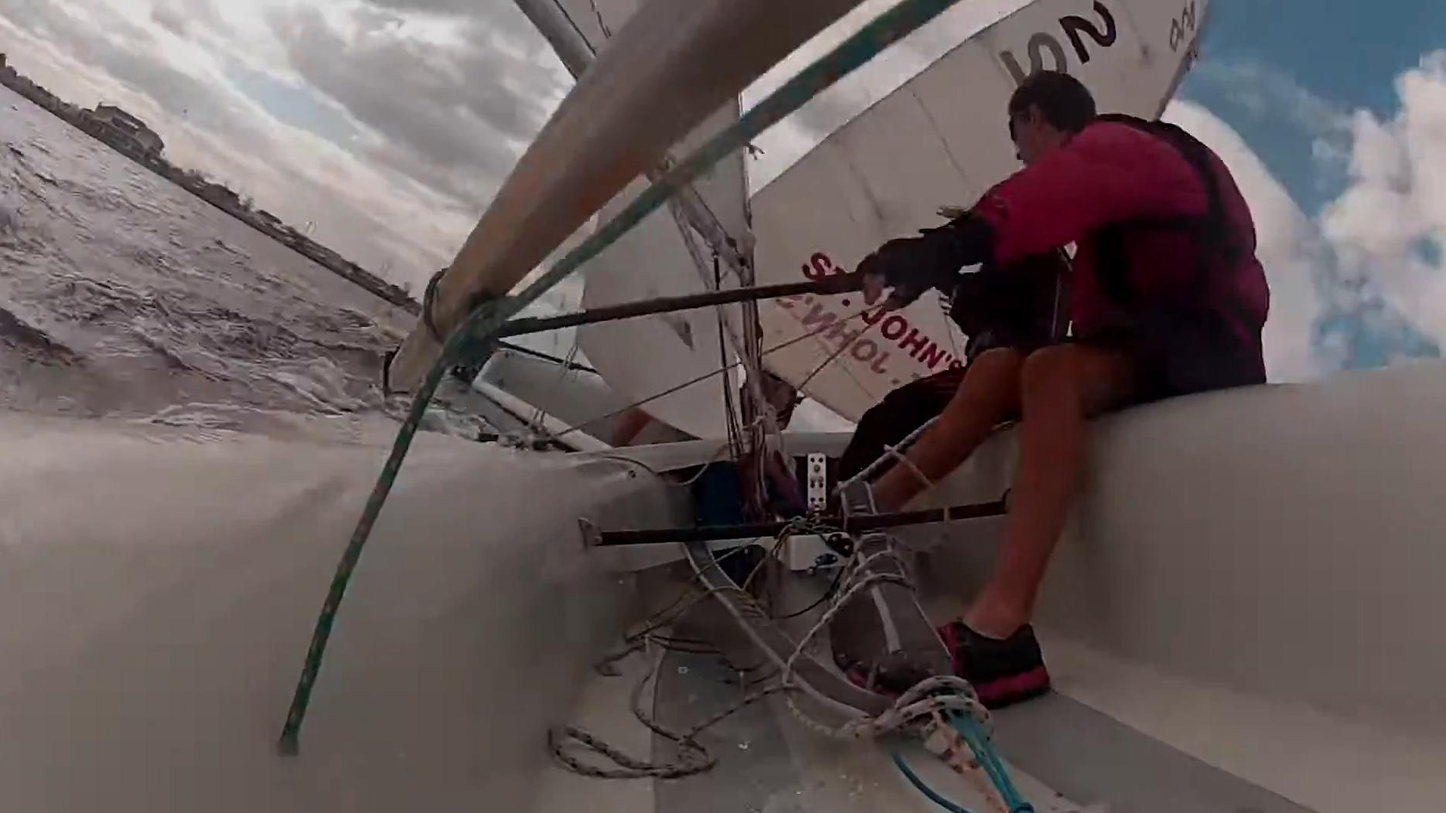boat: (0, 151, 1446, 813), (386, 0, 868, 410)
land: (0, 59, 414, 316)
person: (834, 77, 1269, 703), (838, 247, 1073, 482)
sea: (0, 81, 405, 420), (426, 386, 530, 451)
sky: (0, 0, 579, 296), (1170, 0, 1446, 382), (745, 0, 1042, 195)
